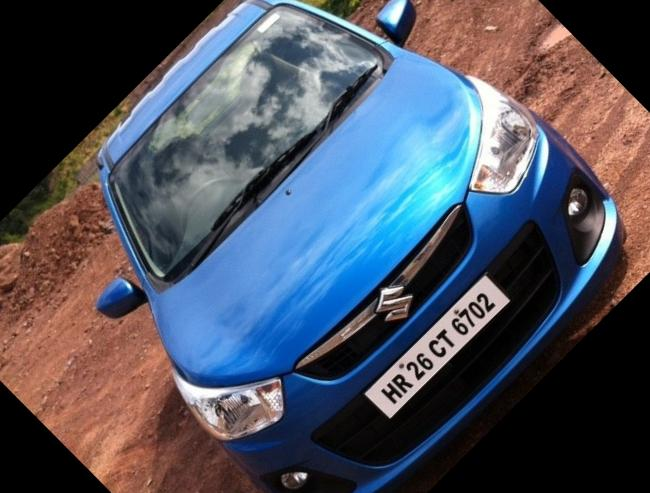plate: (347, 262, 526, 441)
